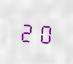two: (19, 18, 35, 43)
zero: (36, 20, 52, 45)
